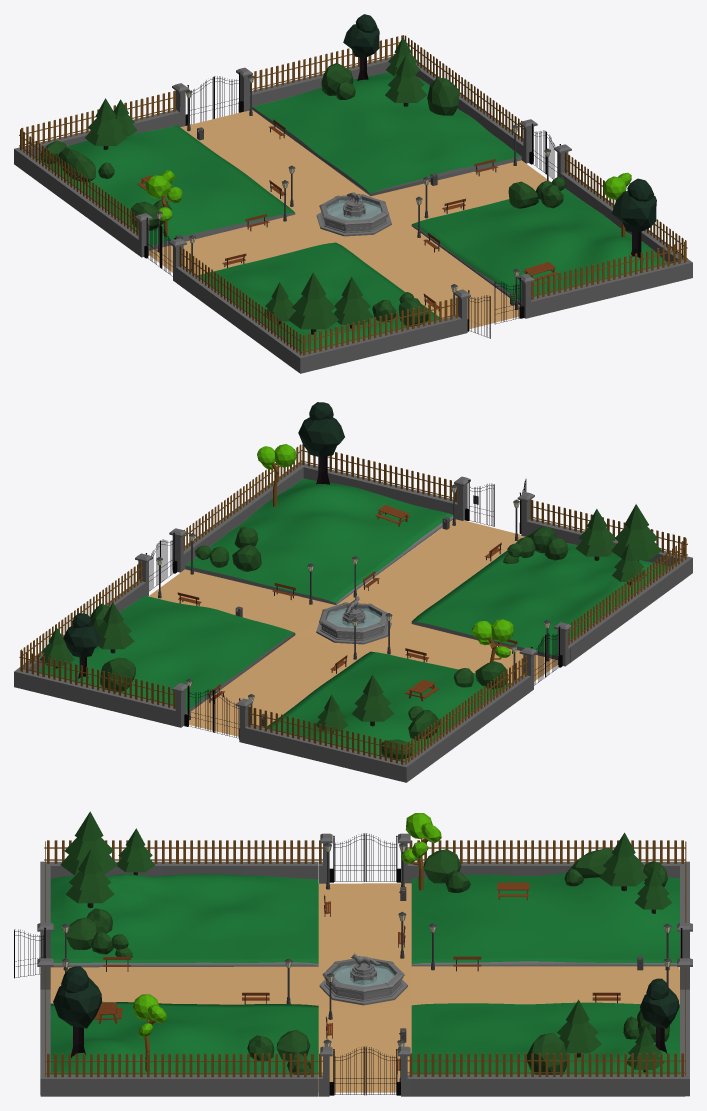
Rendered from rizal-park.glb.
3 renders of one model, top to bottom at view 1: azimuth 30°, elevation 25°; view 2: azimuth 150°, elevation 25°; view 3: azimuth 270°, elevation 25°, orthographic. The views are drawn at different scales.
Parts seen in each view (by area): view 1: terriccio, terriccio.001, MURO, abete, prova2.004, prova.003, prova.002, prova2, prova2.003, Icosphere.009, prova.004, prova (+14 smaller); view 2: terriccio, terriccio.001, MURO, abete, prova, prova2, prova.004, prova2.004, prova.002, prova2.002, Icosphere.009, prova2.003 (+14 smaller); view 3: terriccio, terriccio.001, MURO, abete, prova2.002, prova2.003, prova2, prova2.004, Icosphere.009, fontana base, barre verticali.003, barre verticali.002 (+13 smaller).
Part boxes in pixels (x1=…): terriccio: x1=37, y1=72, x2=667, y2=352; terriccio.001: x1=149, y1=110, x2=549, y2=328; MURO: x1=14, y1=57, x2=692, y2=373; abete: x1=85, y1=37, x2=427, y2=334; prova2.004: x1=179, y1=246, x2=302, y2=355; prova.003: x1=302, y1=297, x2=458, y2=355; prova.002: x1=531, y1=241, x2=686, y2=299; prova2: x1=19, y1=129, x2=138, y2=235; prova2.003: x1=404, y1=35, x2=523, y2=141; Icosphere.009: x1=612, y1=178, x2=656, y2=232; prova.004: x1=249, y1=35, x2=403, y2=92; prova: x1=21, y1=90, x2=176, y2=147; terriccio: x1=36, y1=478, x2=668, y2=761; terriccio.001: x1=148, y1=519, x2=557, y2=736; MURO: x1=14, y1=462, x2=692, y2=782; abete: x1=39, y1=504, x2=661, y2=733; prova: x1=248, y1=706, x2=404, y2=764; prova2: x1=404, y1=655, x2=527, y2=764; prova.004: x1=20, y1=650, x2=175, y2=708; prova2.004: x1=568, y1=538, x2=687, y2=645; prova.002: x1=302, y1=444, x2=457, y2=502; prova2.002: x1=183, y1=444, x2=301, y2=550; Icosphere.009: x1=298, y1=402, x2=344, y2=457; prova2.003: x1=19, y1=561, x2=142, y2=670; terriccio: x1=50, y1=873, x2=679, y2=1074; terriccio.001: x1=50, y1=883, x2=679, y2=1092; MURO: x1=37, y1=833, x2=692, y2=1096; abete: x1=60, y1=811, x2=671, y2=1072; prova2.002: x1=45, y1=1053, x2=322, y2=1077; prova2.003: x1=407, y1=1053, x2=686, y2=1076; prova2: x1=407, y1=840, x2=685, y2=863; prova2.004: x1=44, y1=840, x2=322, y2=863; Icosphere.009: x1=53, y1=966, x2=102, y2=1028; fontana base: x1=319, y1=967, x2=407, y2=1005; barre verticali.003: x1=329, y1=833, x2=400, y2=882; barre verticali.002: x1=329, y1=1046, x2=400, y2=1095.
Bounding box in the file's own units: 52.65 × 12.06 × 68.74.
6 materials, 5 textured.
